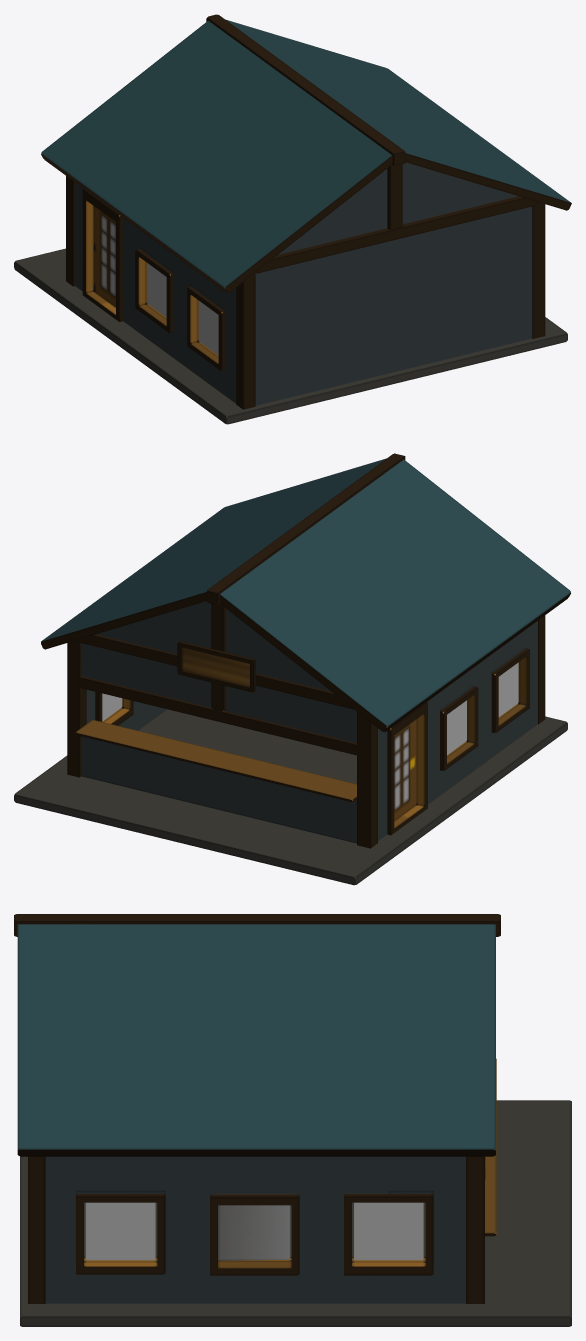
The model's file is Buildings.fbx.
3 renders of one model, top to bottom at view 1: azimuth 30°, elevation 25°; view 2: azimuth 150°, elevation 25°; view 3: azimuth 270°, elevation 25°, orthographic. The views are drawn at different scales.
Visible parts, largest first — view 1: window; view 2: window, Fishing Hut; view 3: window.
Boxes of the visible parts, x1,y1,x2,y2 form: window: [14, 14, 571, 424]; window: [14, 453, 570, 885]; Fishing Hut: [177, 641, 255, 692]; window: [14, 914, 571, 1326].
Bounding box in the file's own units: 568 × 362 × 609.
Materials: 1 (1 with a texture image).
